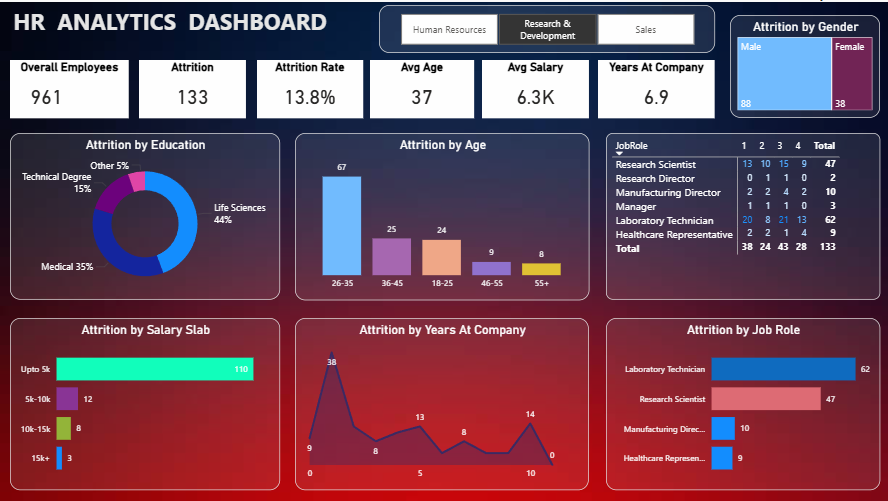

Layout of this report page (visuals, bound fields, positions):
{"tool":"powerbi","page":{"name":"Page 1","canvas":[1280,720],"ordinal":0},"visuals":[{"type":"cardVisual","title":"Overall Employees","fields":{"Data":["CountNonNull(HR_Analytics.EmpID)"]},"box":[14.4,83.5,171.4,83.5],"z":0},{"type":"cardVisual","title":"Attrition","fields":{"Data":["Sum(HR_Analytics.AttritionCount)"]},"box":[200.2,83.5,154.1,83.5],"z":1000},{"type":"cardVisual","title":"Attrition Rate","fields":{"Data":["HR_Analytics.AttritionRate"]},"box":[370.1,83.5,152.6,83.5],"z":2000},{"type":"cardVisual","title":"Avg Age","fields":{"Data":["Avg(HR_Analytics.Age)"]},"box":[532.8,83.5,149.8,83.5],"z":3000},{"type":"cardVisual","title":"Avg Salary","fields":{"Data":["Avg(HR_Analytics.MonthlyIncome)"]},"box":[694.1,83.5,154.1,83.5],"z":4000},{"type":"cardVisual","title":"Years At Company","fields":{"Data":["Avg(HR_Analytics.YearsAtCompany)"]},"box":[861.1,83.5,168.5,83.5],"z":5000},{"type":"donutChart","title":" Attrition by Education","fields":{"Category":["HR_Analytics.EducationField"],"Y":["Sum(HR_Analytics.AttritionCount)"]},"box":[14.4,188.6,388.8,240.5],"z":6000},{"type":"areaChart","title":" Attrition by Years At Company","fields":{"Category":["HR_Analytics.YearsAtCompany"],"Y":["Sum(HR_Analytics.AttritionCount)"]},"box":[424.8,455,423.4,247.7],"z":7000},{"type":"pivotTable","fields":{"Rows":["HR_Analytics.JobRole"],"Columns":["HR_Analytics.JobSatisfaction"],"Values":["Sum(HR_Analytics.AttritionCount)"]},"box":[872.6,188.6,394.6,240.5],"z":8000},{"type":"barChart","title":" Attrition by Salary Slab","fields":{"Category":["HR_Analytics.SalarySlab"],"Y":["Sum(HR_Analytics.AttritionCount)"]},"box":[14.4,455,388.8,247.7],"z":9000},{"type":"barChart","title":" Attrition by Job Role","fields":{"Y":["Sum(HR_Analytics.AttritionCount)"],"Category":["HR_Analytics.JobRole"]},"box":[872.6,455,394.6,247.7],"z":10000},{"type":"columnChart","title":" Attrition by Age","fields":{"Category":["HR_Analytics.AgeGroup"],"Y":["Sum(HR_Analytics.AttritionCount)"]},"box":[424.3,188.3,424.3,240.7],"z":11000},{"type":"treemap","title":" Attrition by Gender","fields":{"Group":["HR_Analytics.Gender"],"Values":["Sum(HR_Analytics.AttritionCount)"]},"box":[1051.2,18.7,216,148.3],"z":12000},{"type":"slicer","fields":{"Values":["HR_Analytics.Department"]},"box":[545.8,4.3,483.8,69.1],"z":13000},{"type":"textbox","box":[14.3,0,498.2,73.9],"z":14000}]}

Visuals, with their boxes in screenshot pixels (x1, y1, x2, y2), scaled from the page's 1280x720 canvas onto the 888x501 screenshot:
"Overall Employees" cardVisual: Rect(10, 58, 129, 116)
"Attrition" cardVisual: Rect(139, 58, 246, 116)
"Attrition Rate" cardVisual: Rect(257, 58, 363, 116)
"Avg Age" cardVisual: Rect(370, 58, 474, 116)
"Avg Salary" cardVisual: Rect(482, 58, 588, 116)
"Years At Company" cardVisual: Rect(597, 58, 714, 116)
" Attrition by Education" donutChart: Rect(10, 131, 280, 299)
" Attrition by Years At Company" areaChart: Rect(295, 317, 588, 489)
pivotTable - HR_Analytics.JobRole x HR_Analytics.JobSatisfaction: Rect(605, 131, 879, 299)
" Attrition by Salary Slab" barChart: Rect(10, 317, 280, 489)
" Attrition by Job Role" barChart: Rect(605, 317, 879, 489)
" Attrition by Age" columnChart: Rect(294, 131, 589, 299)
" Attrition by Gender" treemap: Rect(729, 13, 879, 116)
slicer - HR_Analytics.Department: Rect(379, 3, 714, 51)
textbox: Rect(10, 0, 356, 51)
